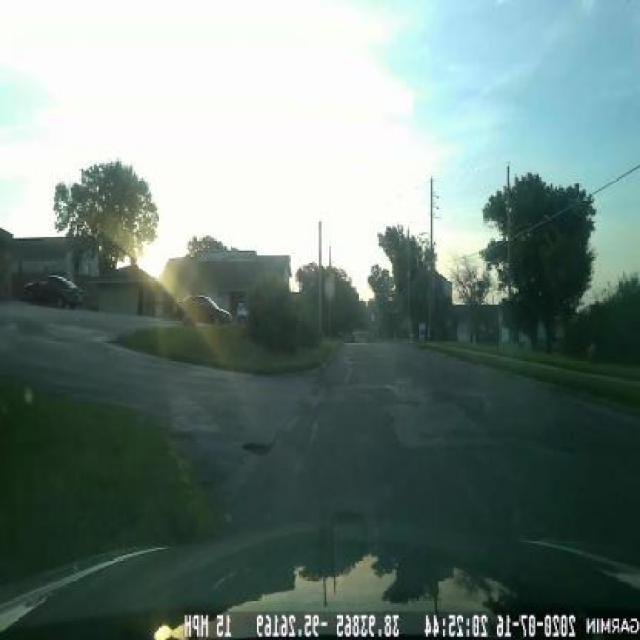pothole: (233, 427, 281, 469)
